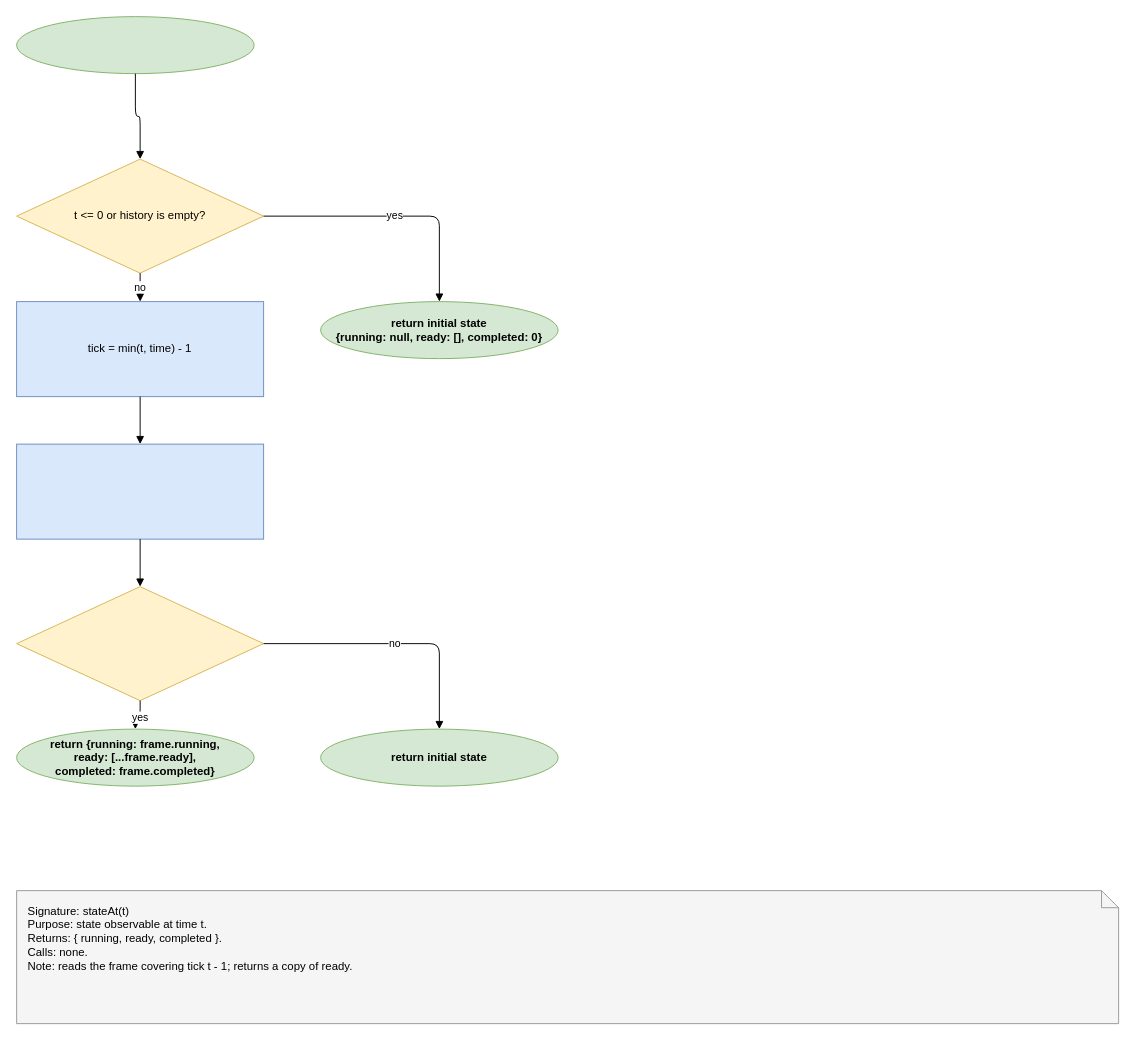
The diagram is 1135 pixels wide and 1040 high, and some of its shapes have lost their labels. Each missing label, with the centre of its shape:
"frame = history.find( frame.start <= tick and tick < frame.end)" goes at [140,491].
"frame found?" goes at [140,643].
"stateAt(t)" goes at [135,45].
